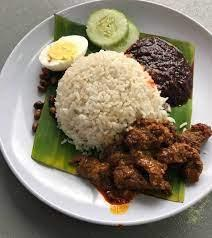Boiled-Egg: (39, 35, 87, 72)
Cucumber: (87, 8, 139, 53)
Peanuts: (33, 68, 65, 130)
Rendang-Chicken: (79, 124, 212, 205)
Rice: (55, 51, 172, 153)
Sambal: (125, 36, 193, 108)
